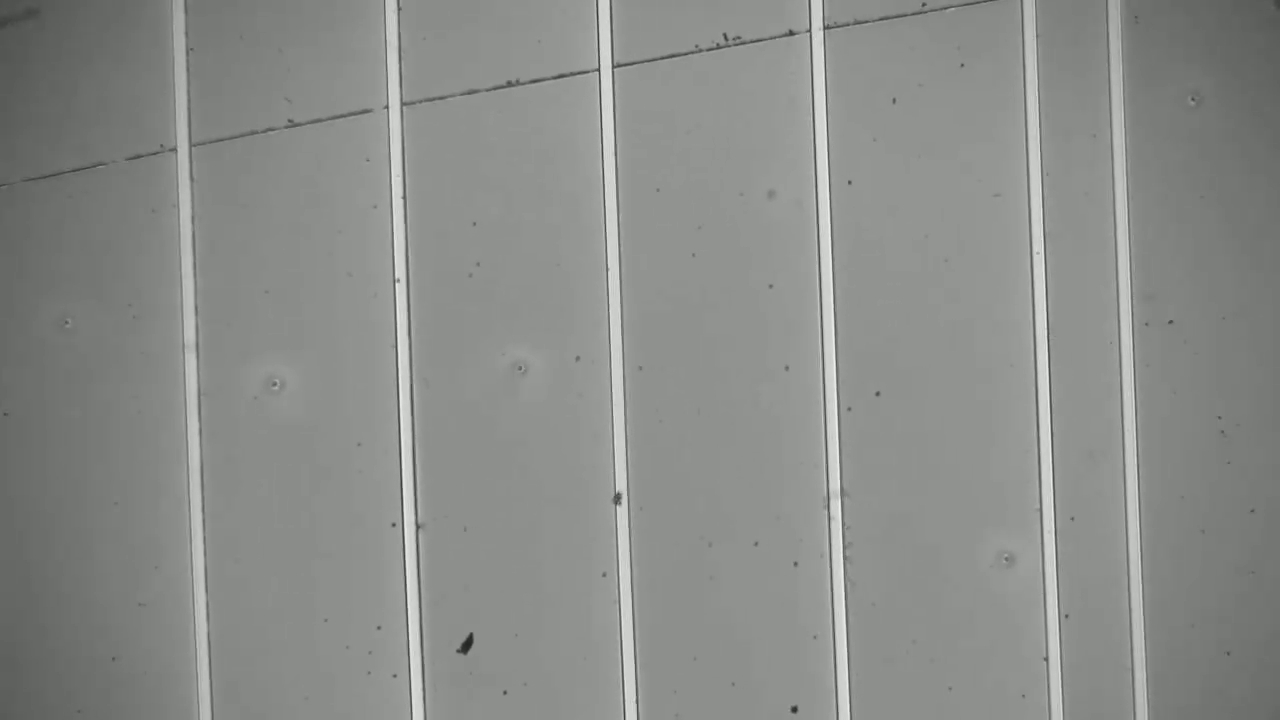scratch: (26, 1, 995, 178)
stains_enbedded: (604, 483, 640, 517)
